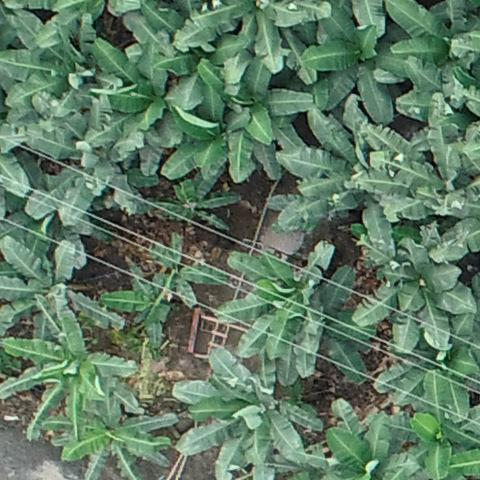Banana-plant: (213, 237, 381, 386), (272, 95, 407, 257), (0, 291, 144, 442), (353, 216, 478, 356), (24, 88, 150, 225), (351, 98, 480, 222), (308, 0, 425, 129), (0, 232, 125, 351), (171, 342, 328, 434), (174, 0, 333, 72), (97, 30, 208, 130), (373, 320, 480, 422), (0, 5, 94, 121), (301, 255, 379, 387), (198, 55, 311, 139), (39, 381, 177, 436), (147, 233, 234, 316), (385, 0, 480, 76), (100, 254, 171, 351), (152, 177, 243, 233)
